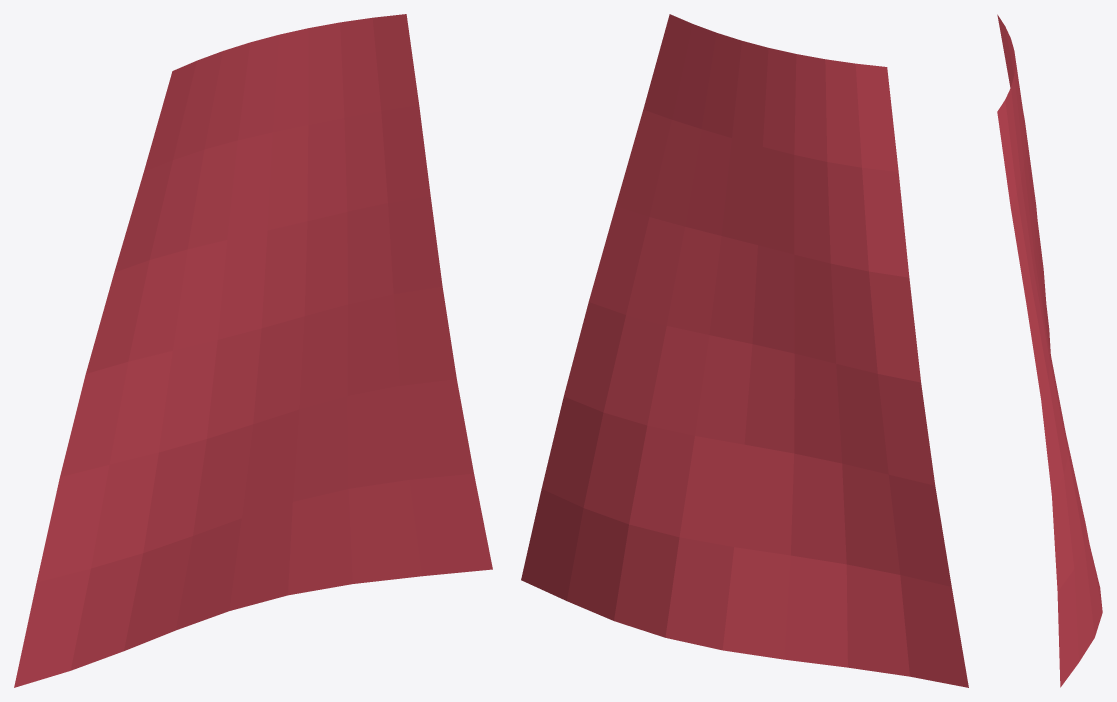
Rendered from cape.glb.
3 renders of one model, left to right at view 1: azimuth 30°, elevation 25°; view 2: azimuth 150°, elevation 25°; view 3: azimuth 270°, elevation 25°, orthographic. The views are drawn at different scales.
Parts seen in each view (by area): view 1: cape; view 2: cape; view 3: cape.
Boxes of the visible parts, bbox=[...] form: cape: bbox=[14, 14, 492, 687]; cape: bbox=[521, 14, 968, 687]; cape: bbox=[997, 14, 1102, 687].
Size of the model in its own units: 0.78 by 0.95 by 0.1731.
